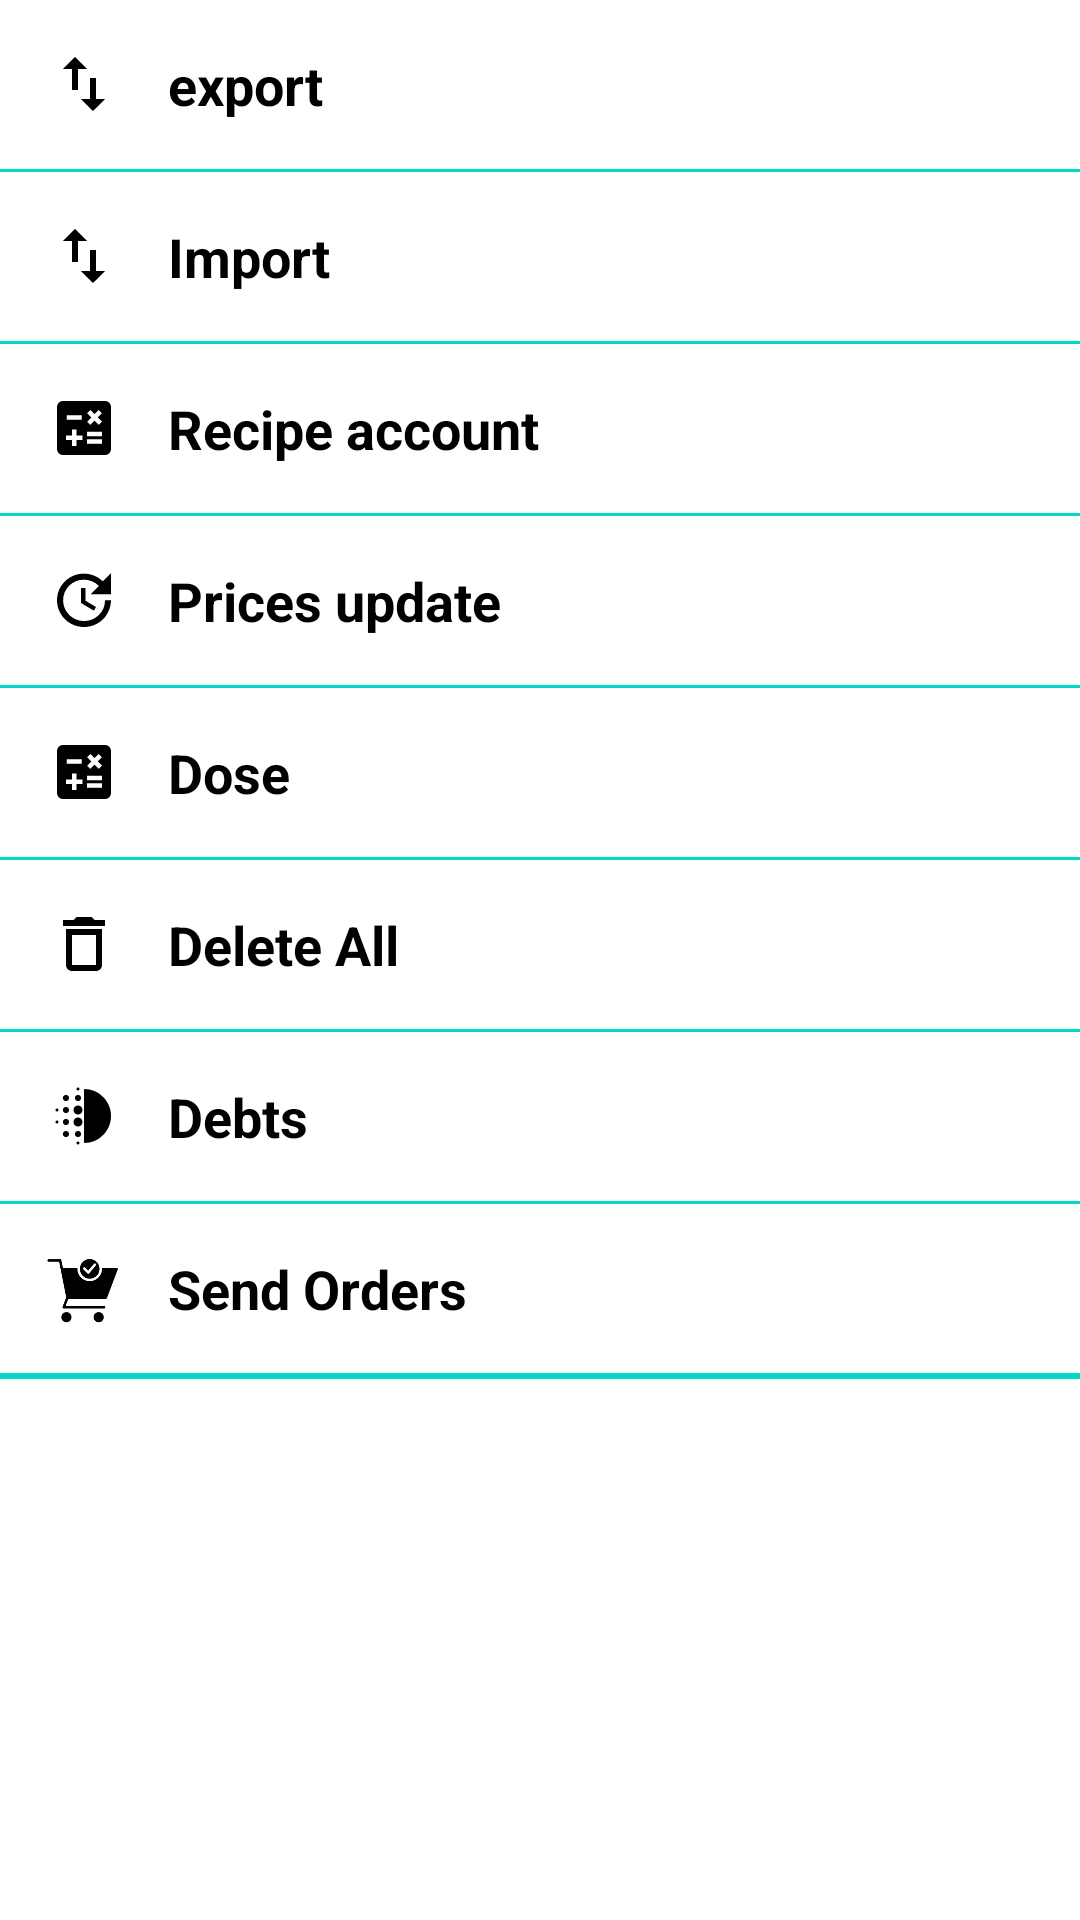

Icon click points for this 1080x1920 phone screenshot, format point (x, y):
calculat: point (84, 428), point (84, 772)
deblur: point (83, 1116)
shop: point (82, 1291)
